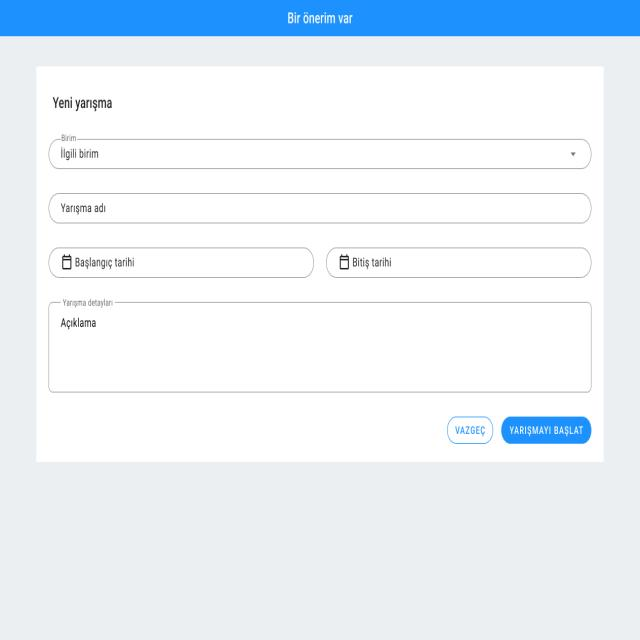QLabel: (284, 10, 354, 30), (50, 92, 113, 114), (508, 424, 584, 436), (453, 424, 486, 436)
VAppBar: (0, 0, 640, 36)
VBtn: (502, 415, 591, 445), (448, 416, 493, 444)
VCard: (36, 66, 603, 464)
VCheckbox: (48, 134, 592, 170)
VInlineDatepicker: (326, 246, 592, 279), (49, 246, 314, 278)
VTextField: (49, 192, 592, 225)
VTextarea: (47, 296, 592, 394)
